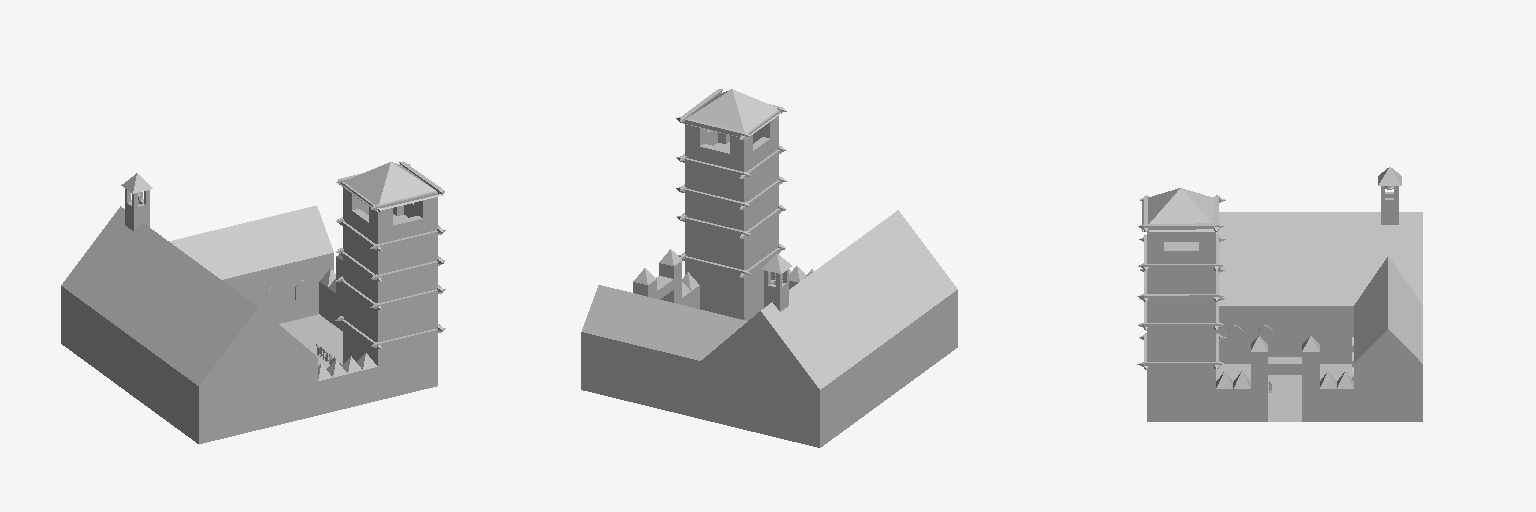
The model's file is barric.obj.
The picture shows the model from 3 angles: view 1: azimuth 30°, elevation 25°; view 2: azimuth 150°, elevation 25°; view 3: azimuth 270°, elevation 25°; orthographic projection.
Visible parts, largest first — view 1: Plane; view 2: Plane; view 3: Plane.
Boxes of the visible parts, box(x1,y1,x2,y2) form: Plane: box(61, 162, 445, 443); Plane: box(581, 89, 957, 447); Plane: box(1137, 167, 1422, 421).
Bounding box in the file's own units: 19.55 × 16.6 × 19.58.